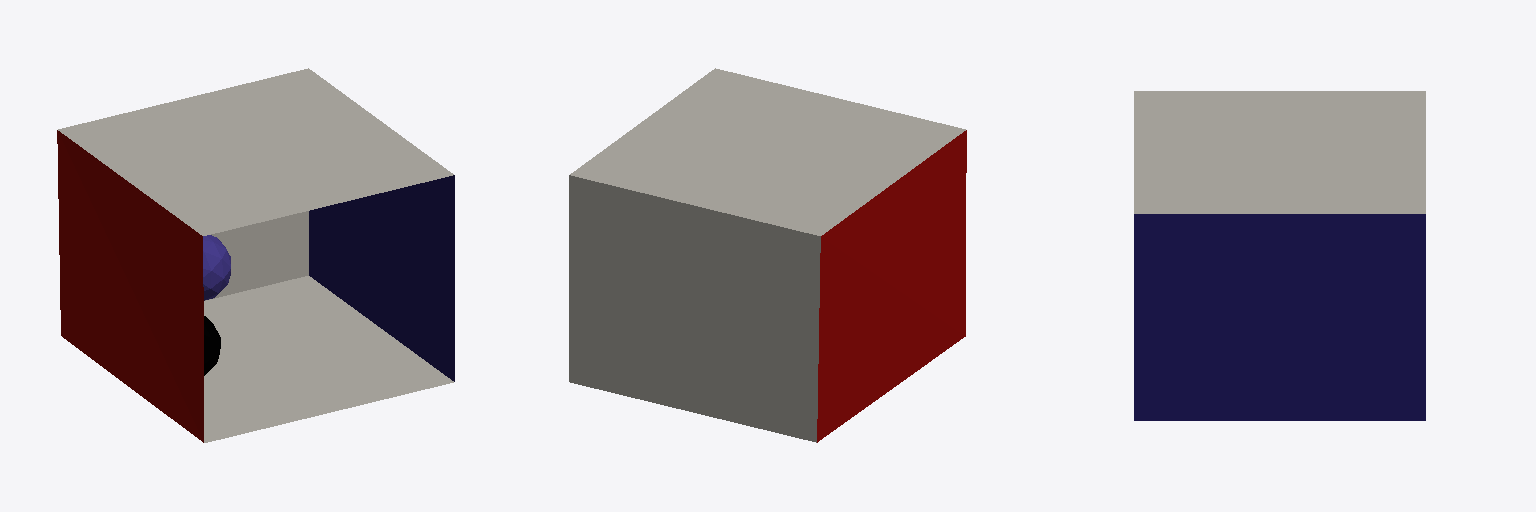
The model's file is CornellBox-Sphere-842.obj.
3 views of the same model, side by side, from view 1: azimuth 30°, elevation 25°; view 2: azimuth 150°, elevation 25°; view 3: azimuth 270°, elevation 25° (orthographic).
Visible parts, largest first — view 1: ceiling, leftWall, floor, rightWall, backWall, leftSphere, rightSphere; view 2: backWall, ceiling, leftWall; view 3: rightWall, ceiling.
Boxes of the visible parts, box(x1,y1,x2,y2) form: ceiling: box(58, 68, 453, 235); leftWall: box(57, 130, 203, 442); floor: box(204, 276, 453, 442); rightWall: box(309, 175, 454, 381); backWall: box(205, 211, 308, 300); leftSphere: box(203, 235, 230, 300); rightSphere: box(204, 316, 220, 375); backWall: box(569, 175, 820, 442); ceiling: box(570, 68, 965, 235); leftWall: box(817, 130, 966, 442); rightWall: box(1134, 214, 1425, 420); ceiling: box(1134, 91, 1425, 213).
Size of the model in its own units: 2.02 by 1.59 by 2.03.